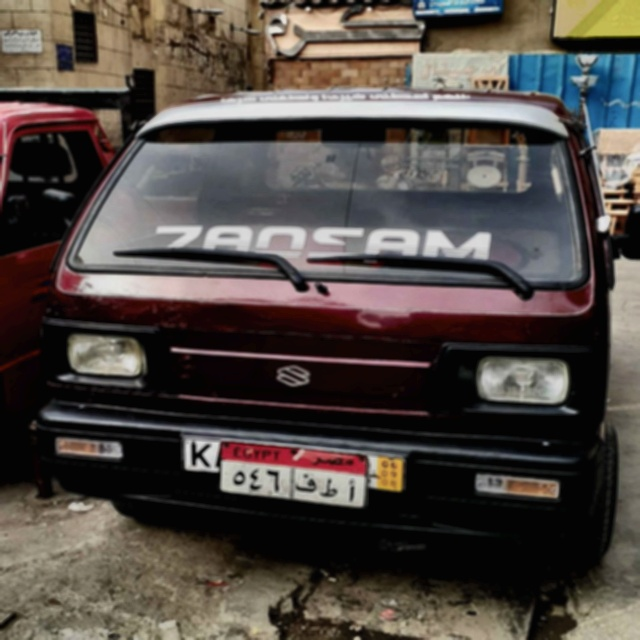License Plate: (217, 439, 368, 509)
